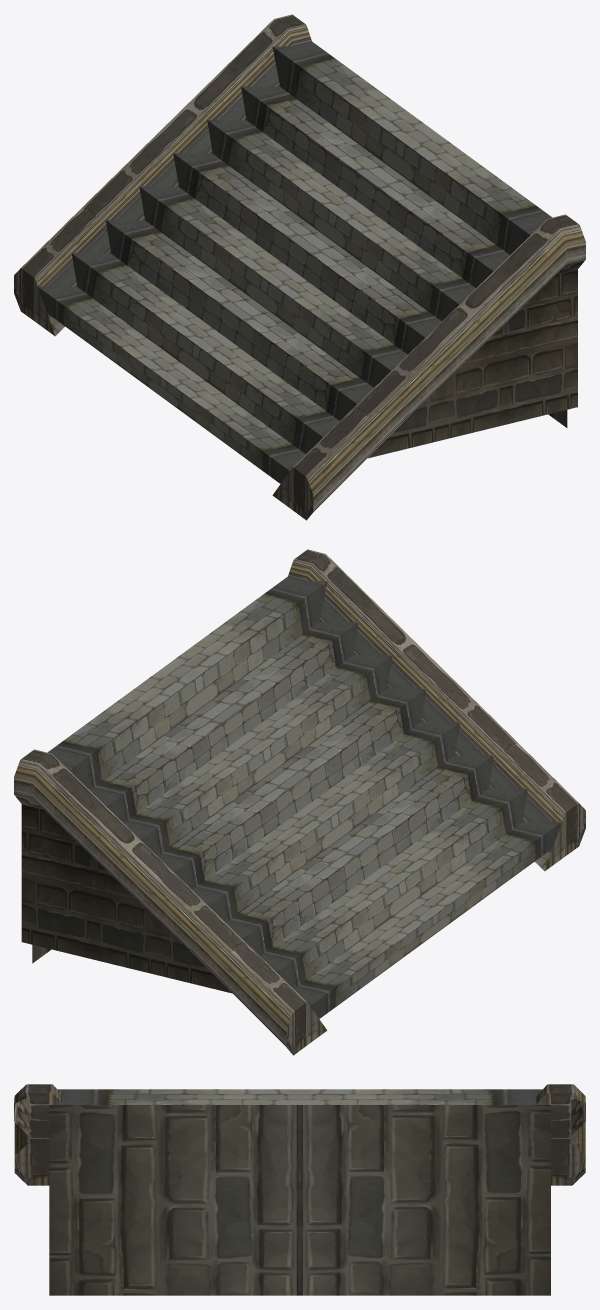
Rendered from new_sh_straightstair.FBX.
The picture shows the model from 3 angles, top to bottom: view 1: azimuth 30°, elevation 25°; view 2: azimuth 150°, elevation 25°; view 3: azimuth 270°, elevation 25°; orthographic projection. The views are drawn at different scales.
Parts seen in each view (by area): view 1: new_sh_straightstair; view 2: new_sh_straightstair; view 3: new_sh_straightstair.
Boxes of the visible parts, bbox=[...] form: new_sh_straightstair: bbox=[14, 14, 585, 520]; new_sh_straightstair: bbox=[14, 549, 585, 1055]; new_sh_straightstair: bbox=[14, 1084, 585, 1295].
Size of the model in its own units: 643 by 519 by 1227.
1 material, 1 textured.
